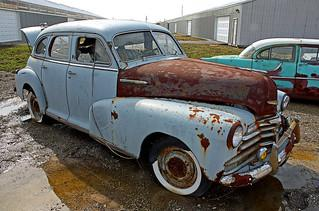doorouter-dent: (73, 28, 115, 91)
